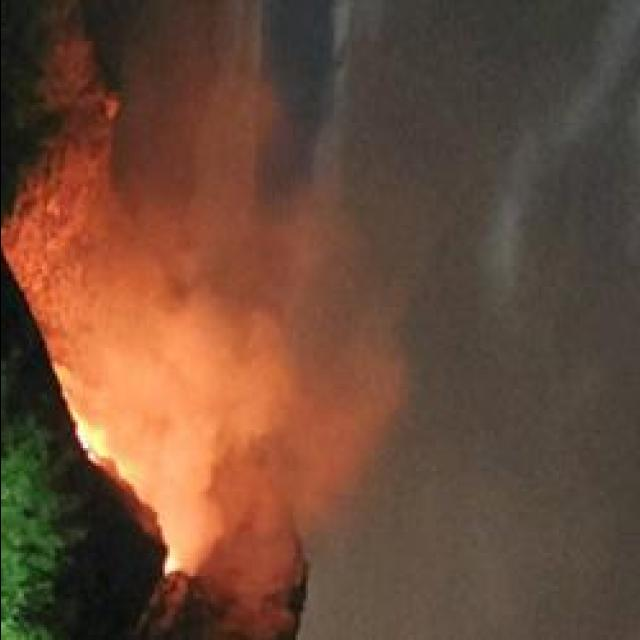fire: (73, 423, 107, 449)
smoke: (159, 95, 276, 273), (102, 297, 220, 424), (183, 315, 292, 441), (298, 364, 404, 484), (168, 414, 242, 560), (260, 204, 352, 321), (228, 484, 312, 578), (64, 372, 137, 412)
